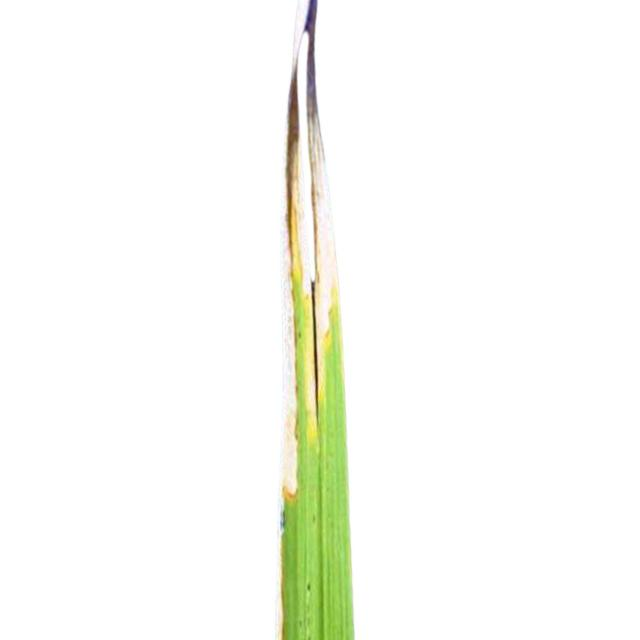Leaf scald: (184, 0, 456, 640)
